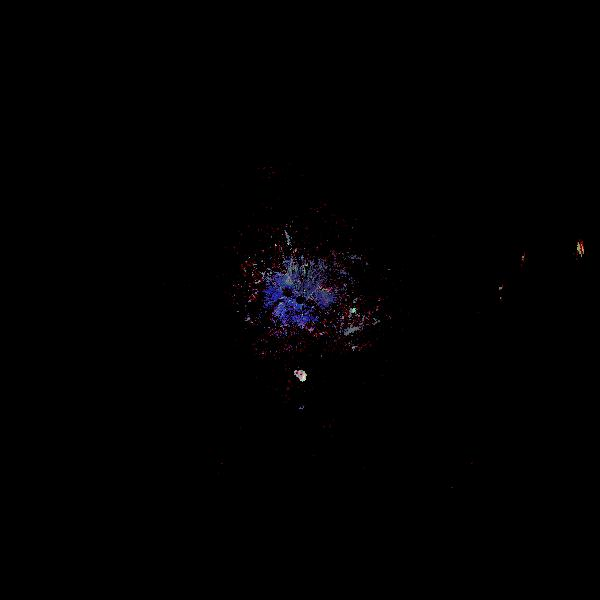roost: (290, 365, 311, 386)
